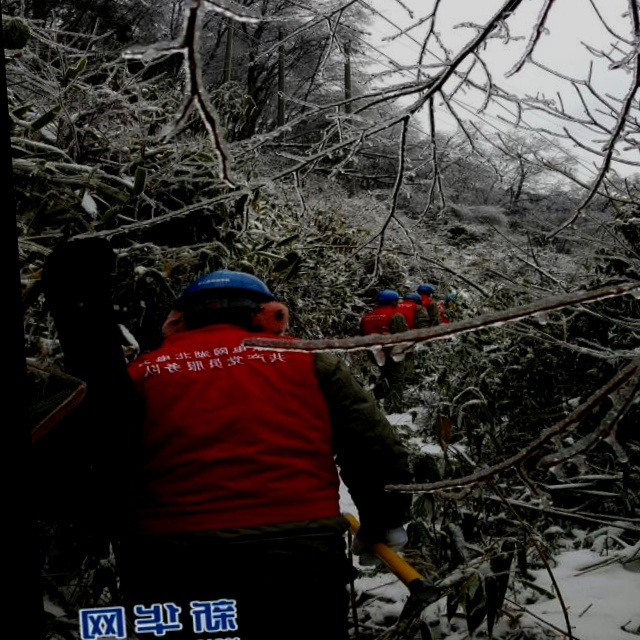Con_Casco: (174, 263, 275, 331)
